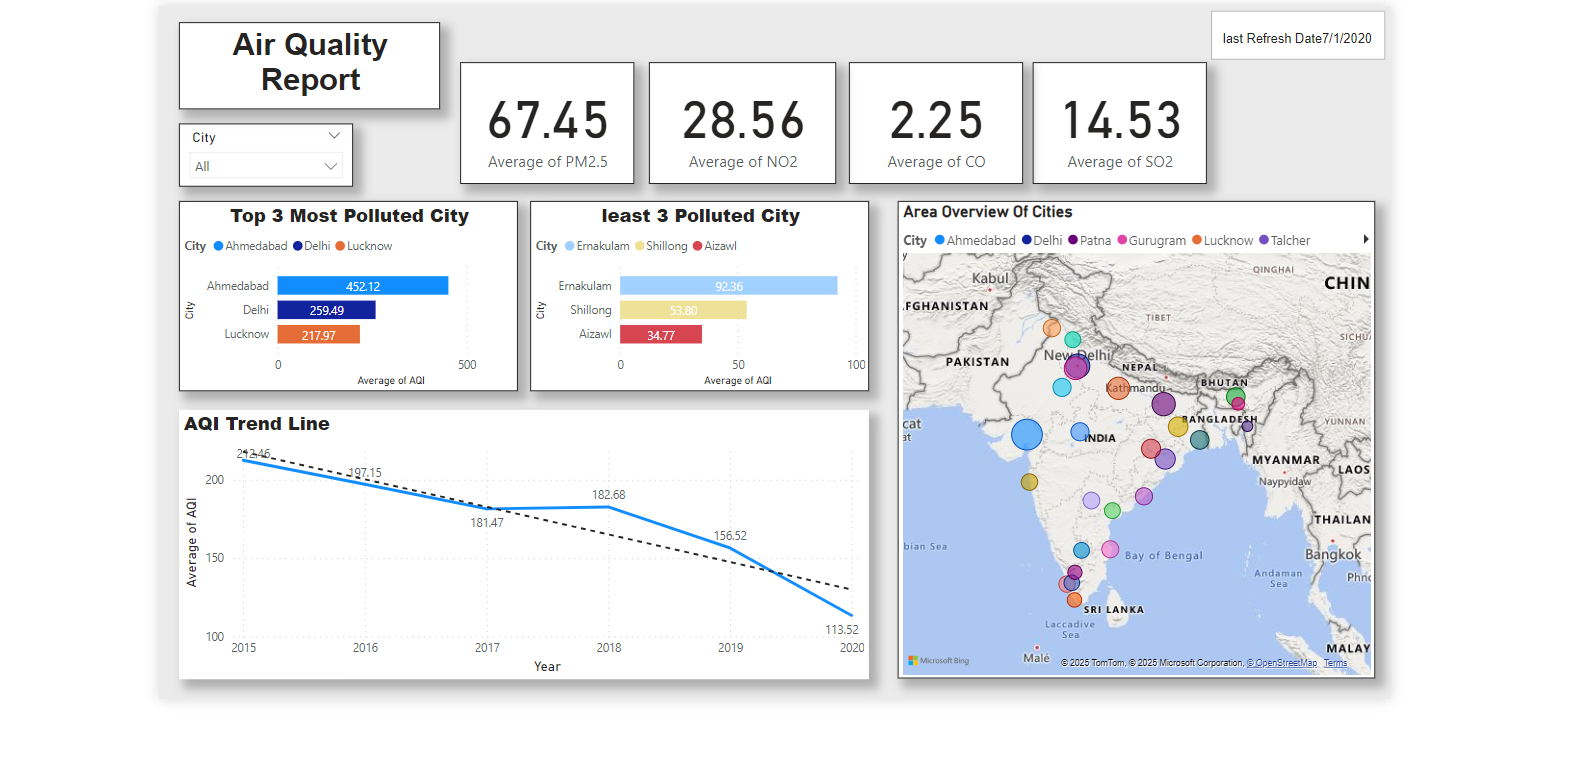

Layout of this report page (visuals, bound fields, positions):
{"tool":"powerbi","page":{"name":"Page 1","canvas":[1280,720],"ordinal":0},"visuals":[{"type":"lineChart","title":"AQI Trend Line","fields":{"Y":["Avg(city_day.AQI)"],"Category":["city_day.Date.Variation.Date Hierarchy.Year","city_day.Date.Variation.Date Hierarchy.Quarter","city_day.Date.Variation.Date Hierarchy.Month","city_day.Date.Variation.Date Hierarchy.Day"]},"box":[20.6,419.5,717.1,279.7],"z":0},{"type":"slicer","fields":{"Values":["city_day.City"]},"box":[20.6,122,181,65.8],"z":1},{"type":"barChart","title":"Top 3 Most Polluted City","fields":{"Category":["city_day.City"],"Y":["Avg(city_day.AQI)"],"Series":["city_day.City"]},"box":[20.6,202.9,352.4,197.4],"z":2},{"type":"barChart","title":"least 3 Polluted City","fields":{"Category":["city_day.City"],"Y":["Avg(city_day.AQI)"],"Series":["city_day.City"]},"box":[385.3,202.9,352.4,197.4],"z":3},{"type":"card","fields":{"Values":["Avg(city_day.SO2)"]},"box":[907.6,59,181,126.1],"z":4},{"type":"card","fields":{"Values":["Avg(city_day.CO)"]},"box":[717.1,59,181,126.1],"z":5},{"type":"card","fields":{"Values":["Avg(city_day.NO2)"]},"box":[508.7,59,194.7,126.1],"z":6},{"type":"card","fields":{"Values":["Avg(city_day.PM2.5)"]},"box":[312.6,59,181,126.1],"z":7},{"type":"map","title":"Area Overview Of Cities","fields":{"Category":["city_day.City"],"Series":["city_day.City"],"Size":["Avg(city_day.AQI)"]},"box":[767.8,202.9,496.3,496.3],"z":8},{"type":"textbox","box":[20.6,16.5,271.5,90.5],"z":9},{"type":"cardVisual","fields":{"Data":["city_day.MAX Date"]},"box":[1088.6,0,191.9,61.7],"z":10}]}

Visuals, with their boxes on the page's 1280x720 design canvas (x1, y1, x2, y2). These are canvas units, not pixel positions in the 1581x783 screenshot, which may show the page scaled, cropped or inside an application window:
"AQI Trend Line" lineChart: [21, 420, 738, 699]
slicer - city_day.City: [21, 122, 202, 188]
"Top 3 Most Polluted City" barChart: [21, 203, 373, 400]
"least 3 Polluted City" barChart: [385, 203, 738, 400]
card - Avg(city_day.SO2): [908, 59, 1089, 185]
card - Avg(city_day.CO): [717, 59, 898, 185]
card - Avg(city_day.NO2): [509, 59, 703, 185]
card - Avg(city_day.PM2.5): [313, 59, 494, 185]
"Area Overview Of Cities" map: [768, 203, 1264, 699]
textbox: [21, 16, 292, 107]
cardVisual - city_day.MAX Date: [1089, 0, 1280, 62]
